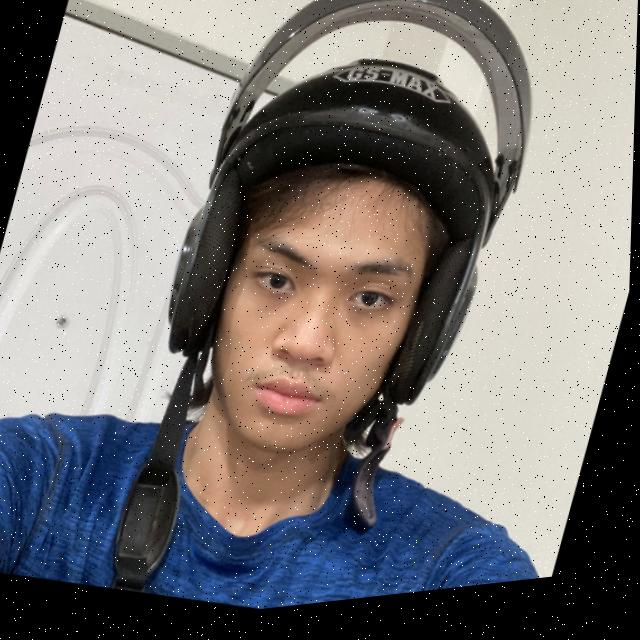illegal_helmet: (82, 0, 585, 632)
